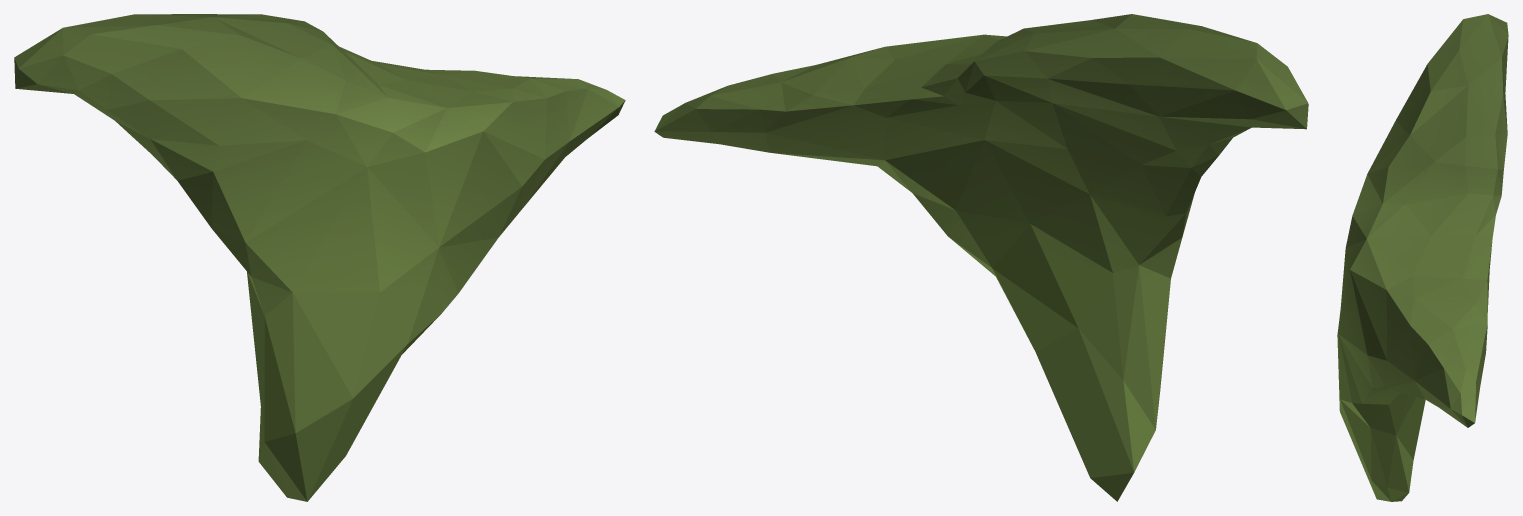
Rendered from Jungle_BushTopper_D.fbx.
The picture shows the model from 3 angles, left to right: view 1: azimuth 30°, elevation 25°; view 2: azimuth 150°, elevation 25°; view 3: azimuth 270°, elevation 25°; orthographic projection. The views are drawn at different scales.
Parts seen in each view (by area): view 1: Jungle_BushTopper_D; view 2: Jungle_BushTopper_D; view 3: Jungle_BushTopper_D.
Boxes of the visible parts, box(x1,y1,x2,y2) form: Jungle_BushTopper_D: box(14, 14, 625, 501); Jungle_BushTopper_D: box(654, 14, 1308, 501); Jungle_BushTopper_D: box(1337, 14, 1508, 501).
Bounding box in the file's own units: 7.19 × 5.52 × 2.07.
1 material, 1 textured.
